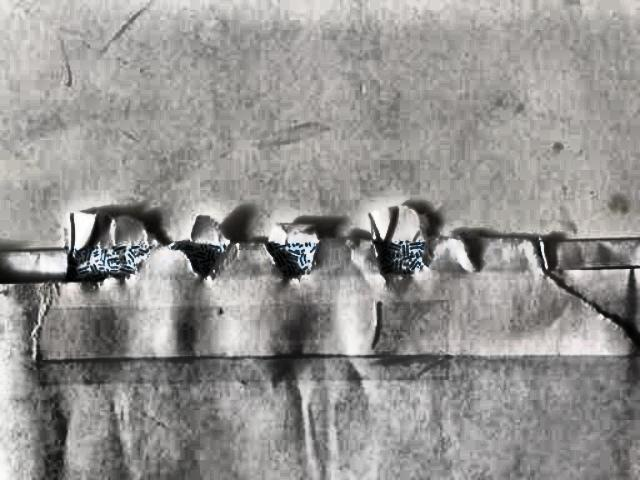Paper: (0, 118, 640, 480)
